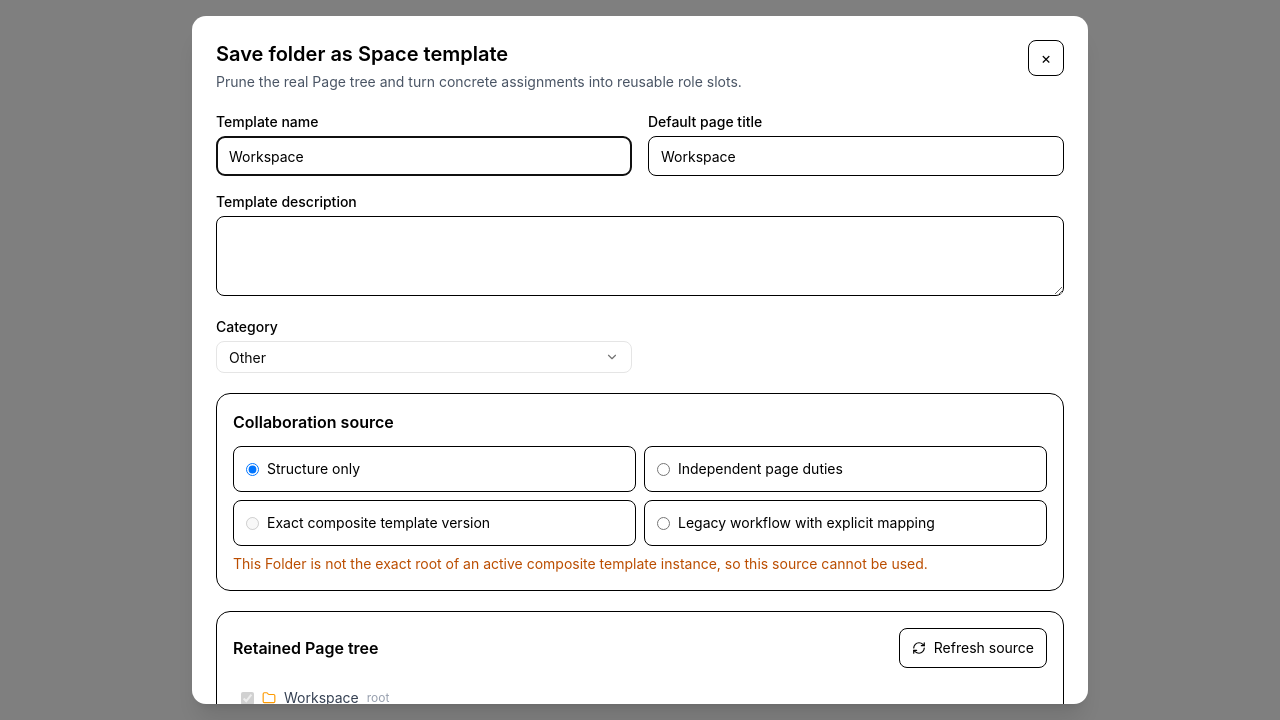
it: SaveFolderAsTemplateDialog › explains optional duties accurately in en
Click the radio button labelled "Independent page duties" at {"x": 664, "y": 469}, box [657,462,670,476]
(page scrolled)
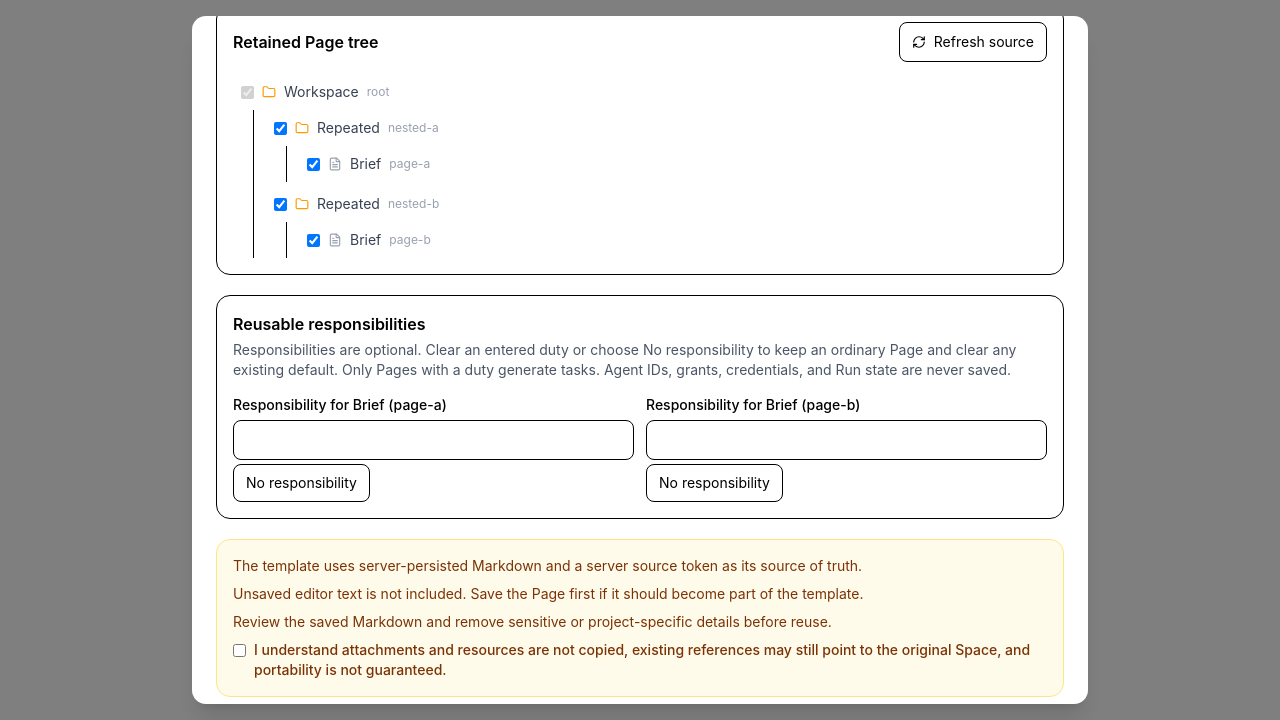
Expected: the text "Responsibilities are optional. Clear an entered duty or choose No responsibility to keep an ordinary Page and clear any " is shown, [233,341,1016,378]
